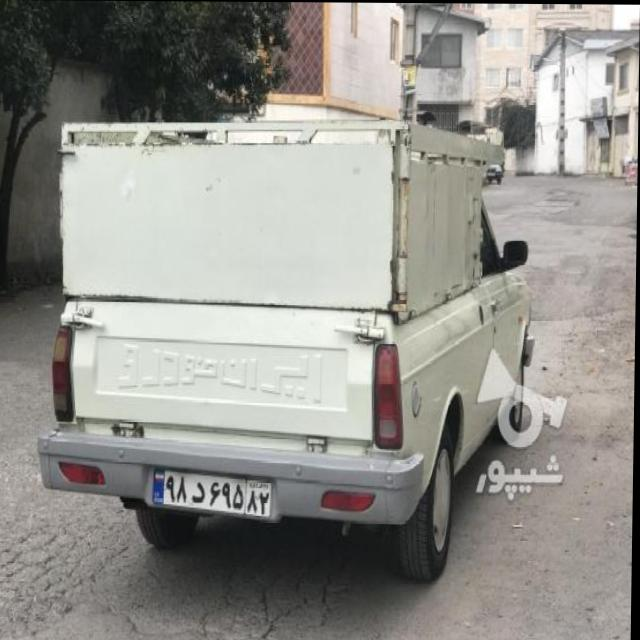licence: (150, 465, 276, 512)
